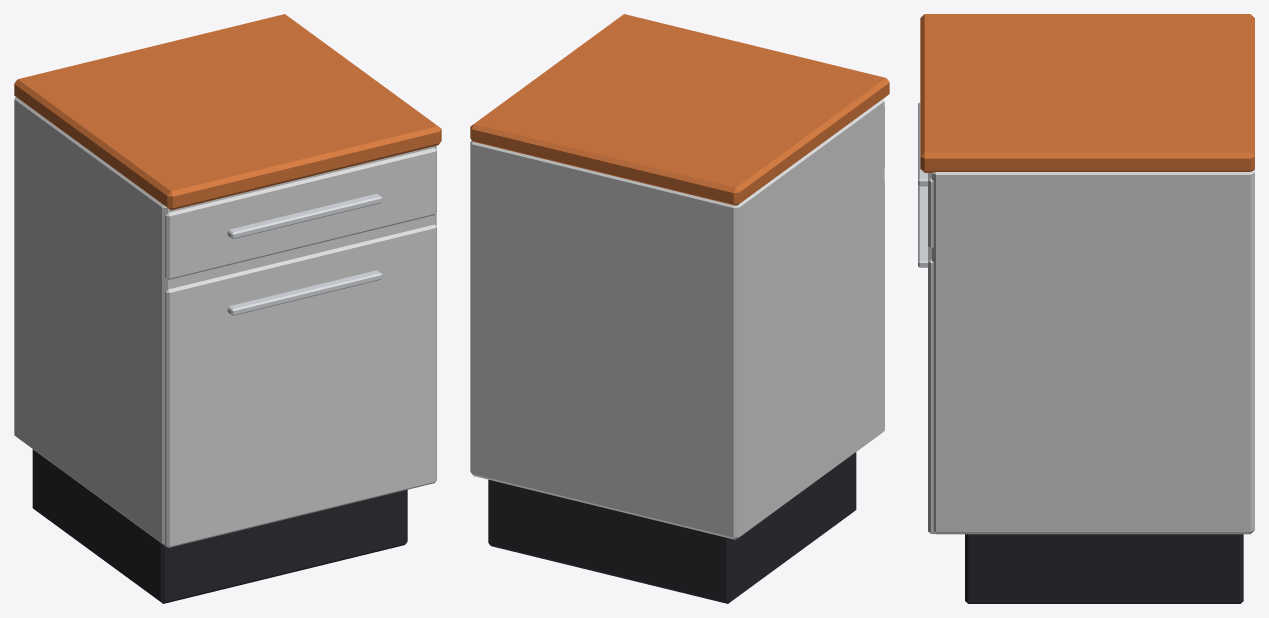
File: kitchen-base-600.glb
The picture shows the model from 3 angles, left to right: view 1: azimuth 30°, elevation 25°; view 2: azimuth 150°, elevation 25°; view 3: azimuth 270°, elevation 25°; orthographic projection. The views are drawn at different scales.
Visible parts, largest first — view 1: kitchen-base-600.tint, kitchen-base-600.accent, kitchen-base-600.graphite, kitchen-base-600.chrome; view 2: kitchen-base-600.tint, kitchen-base-600.accent, kitchen-base-600.graphite; view 3: kitchen-base-600.tint, kitchen-base-600.accent, kitchen-base-600.graphite, kitchen-base-600.chrome.
Boxes of the visible parts, x1,y1,x2,y2 form: kitchen-base-600.tint: [14, 97, 436, 547]; kitchen-base-600.accent: [14, 14, 441, 210]; kitchen-base-600.graphite: [32, 449, 407, 603]; kitchen-base-600.chrome: [227, 193, 382, 315]; kitchen-base-600.tint: [470, 99, 884, 539]; kitchen-base-600.accent: [470, 14, 889, 205]; kitchen-base-600.graphite: [488, 452, 856, 603]; kitchen-base-600.tint: [928, 169, 1254, 534]; kitchen-base-600.accent: [920, 14, 1254, 172]; kitchen-base-600.graphite: [965, 534, 1243, 603]; kitchen-base-600.chrome: [918, 102, 927, 267].
Size of the model in its own units: 0.6 by 0.9 by 0.6.
